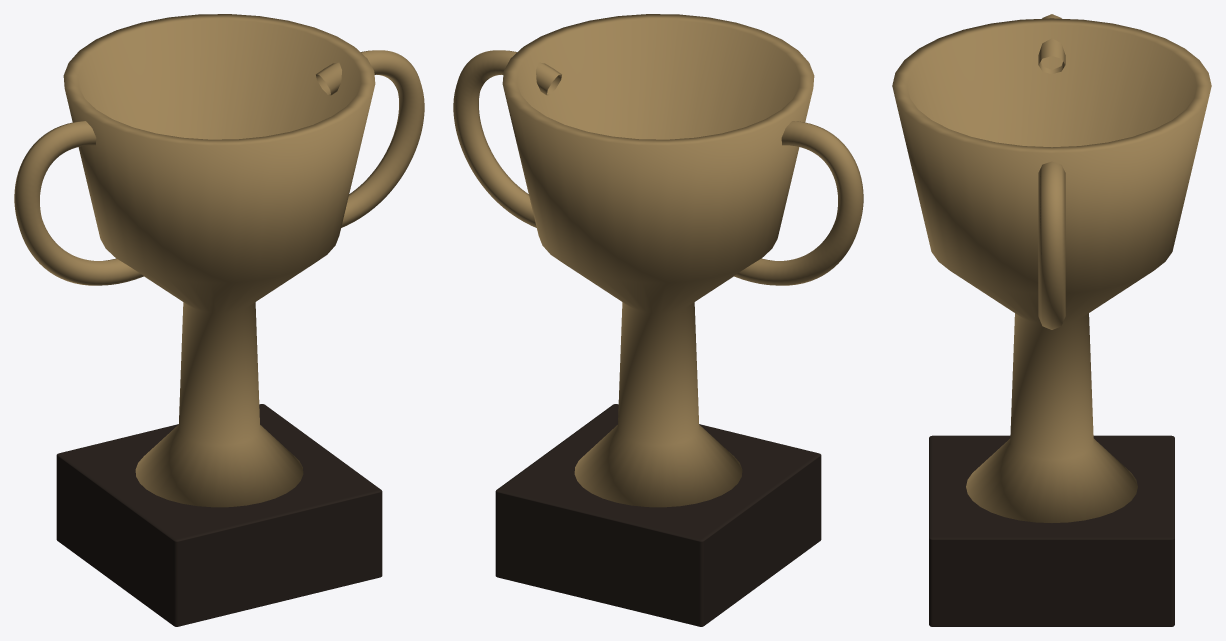
The model's file is Trophy_Cup.fbx.
3 views of the same model, side by side, from view 1: azimuth 30°, elevation 25°; view 2: azimuth 150°, elevation 25°; view 3: azimuth 270°, elevation 25° (orthographic). The views are drawn at different scales.
Parts seen in each view (by area): view 1: Trophy.001, Trophy base.001, Cast trophy scroll handle.008, Cast trophy scroll handle.009; view 2: Trophy.001, Trophy base.001, Cast trophy scroll handle.008, Cast trophy scroll handle.009; view 3: Trophy.001, Trophy base.001, Cast trophy scroll handle.009, Cast trophy scroll handle.008.
Boxes of the visible parts, x1,y1,x2,y2 form: Trophy.001: (63, 14, 375, 507); Trophy base.001: (56, 404, 382, 626); Cast trophy scroll handle.008: (14, 121, 143, 285); Cast trophy scroll handle.009: (316, 50, 424, 227); Trophy.001: (502, 14, 814, 507); Trophy base.001: (495, 404, 821, 626); Cast trophy scroll handle.008: (734, 121, 863, 285); Cast trophy scroll handle.009: (453, 50, 561, 227); Trophy.001: (892, 18, 1211, 522); Trophy base.001: (929, 435, 1174, 626); Cast trophy scroll handle.009: (1038, 161, 1065, 329); Cast trophy scroll handle.008: (1038, 14, 1065, 74).
Size of the model in its own units: 0.1959 by 0.22 by 0.13.
